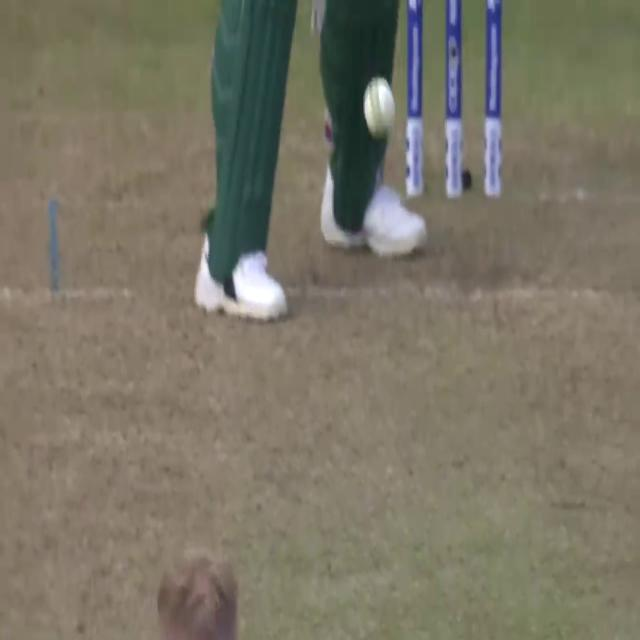ball: (361, 75, 397, 144)
